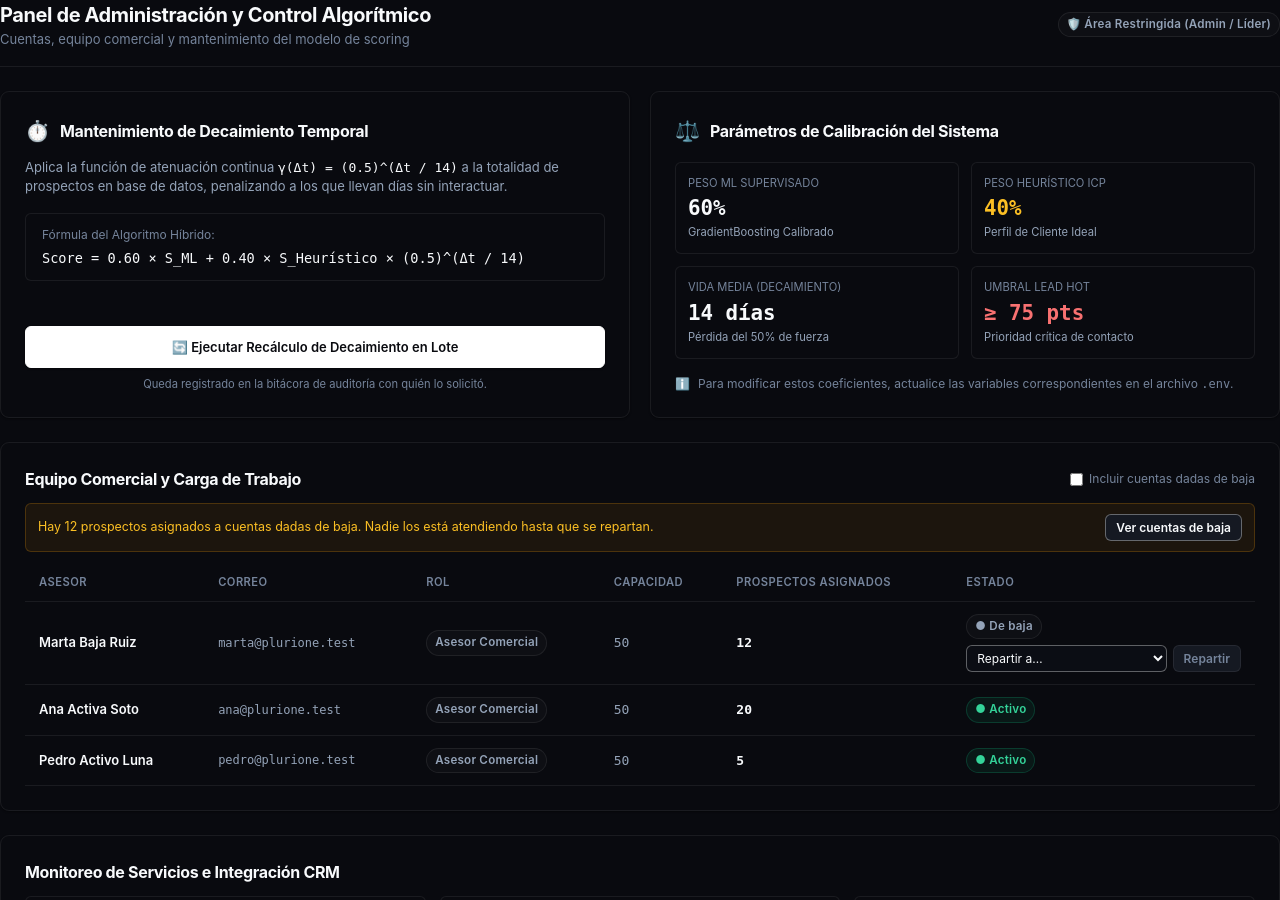
Test: la cartera de las cuentas dadas de baja › reparte la cartera de una baja a un asesor activo
The width and height of the screenshot is (1280, 900).
Expected: the button "Repartir" is disabled, [1173,645,1241,672]
Select "Pedro Activo Luna" in the dropdown named "Asesor que recibe la cartera de Marta Baja Ruiz" at (1066,659), box [966,645,1167,672]
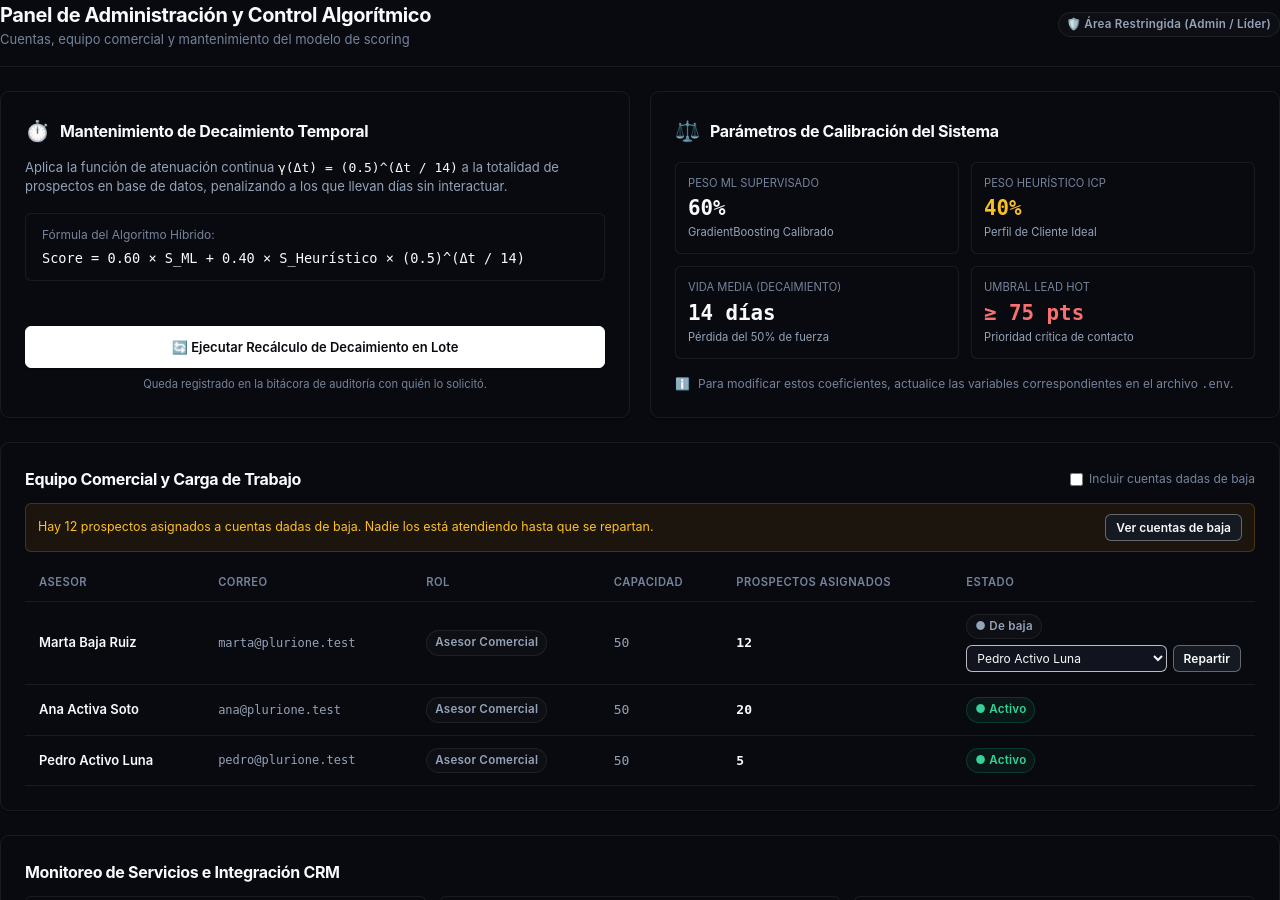
Click the button "Repartir".
click(1207, 659)  # box [1173,645,1241,672]
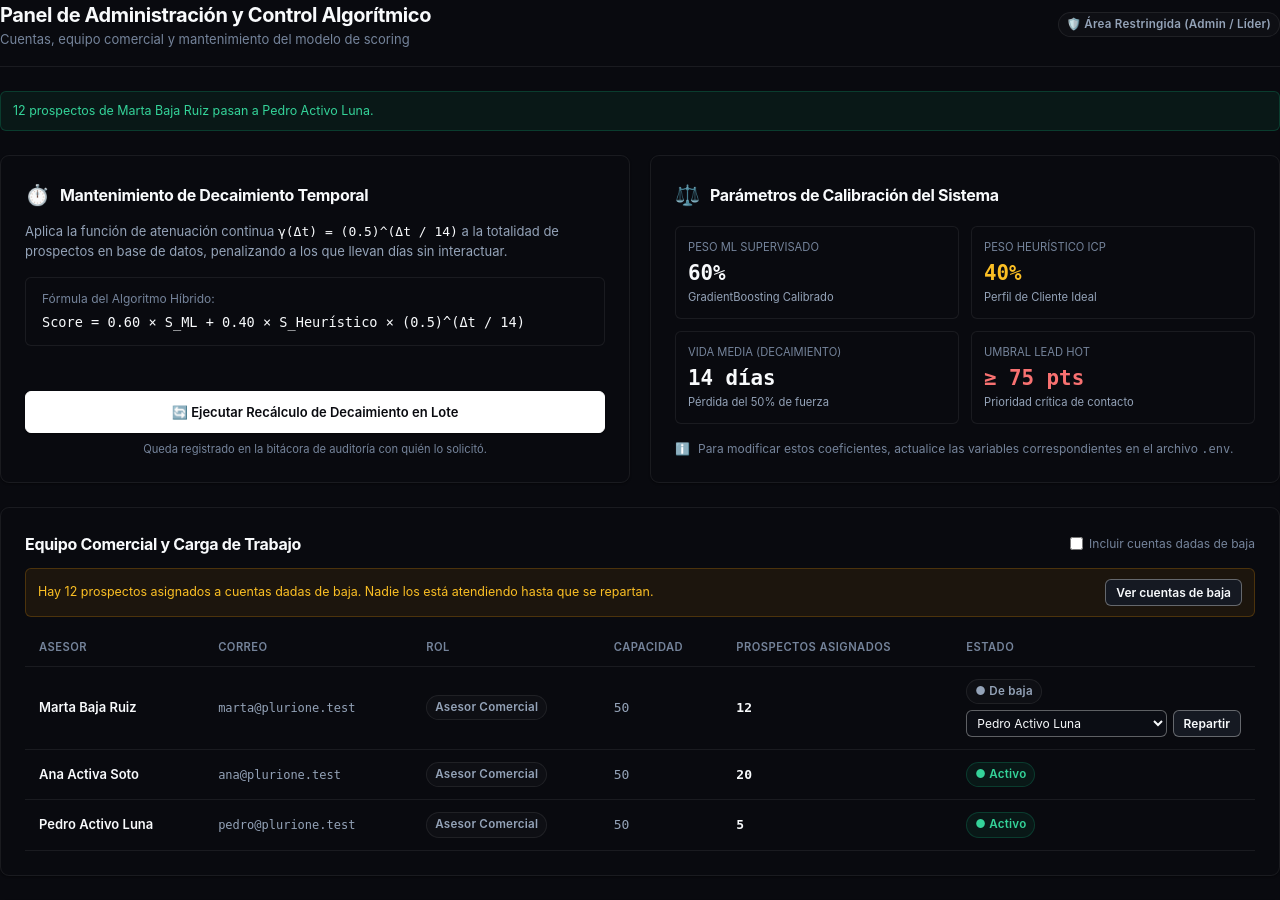
Now the text "12 prospectos de Marta Baja Ruiz pasan a Pedro Activo Luna." is shown, box [0,90,1279,131]
